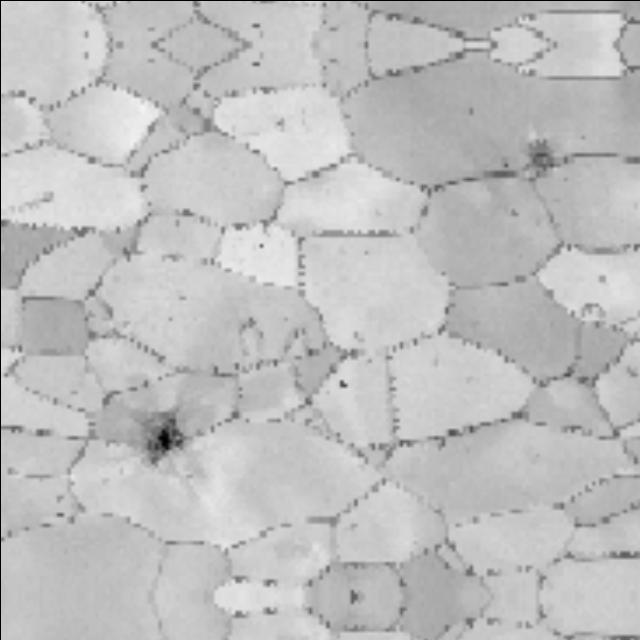good_void: (133, 399, 216, 475), (502, 125, 573, 198), (236, 312, 266, 341), (273, 109, 289, 130), (592, 269, 610, 286), (460, 100, 478, 116), (334, 376, 348, 391)
